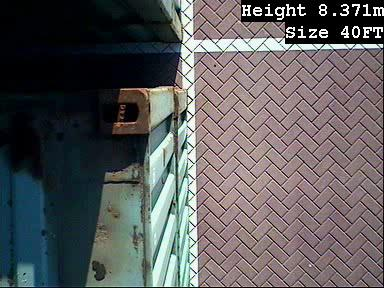groundmarker_2: (48, 151, 151, 209)
